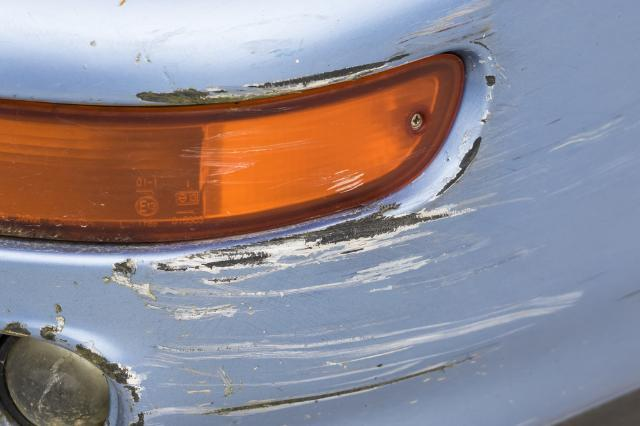scratch: (5, 0, 640, 426)
